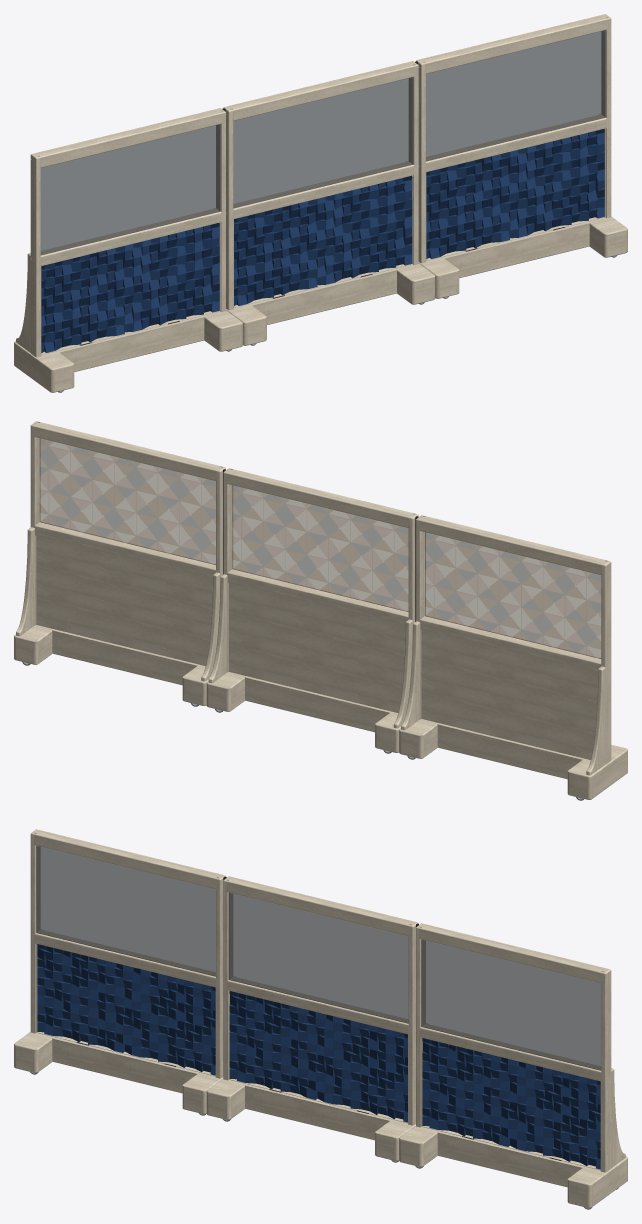
The model's file is v10-linen-marquetry-white-ash-three.glb.
3 views of the same model, one above another, from view 1: azimuth 30°, elevation 25°; view 2: azimuth 150°, elevation 25°; view 3: azimuth 330°, elevation 25° (orthographic).
Parts seen in each view (by area): view 1: Left Wood, Left Linen Marquetry reverse, Linen Marquetry reverse, Right Linen Marquetry reverse, Right Navy Everwood relief, Left Navy Everwood relief, Navy Everwood relief, Right Wood, Wood; view 2: Left Wood, Right Wood, Wood, Left Linen Marquetry print, Right Linen Marquetry print, Linen Marquetry print; view 3: Right Wood, Linen Marquetry reverse, Right Linen Marquetry reverse, Left Linen Marquetry reverse, Left Navy Everwood relief, Right Navy Everwood relief, Navy Everwood relief, Left Wood, Wood.
Part boxes in pixels (left/top/right/bottom): Left Wood: left=14, top=108, right=242, bottom=392; Left Linen Marquetry reverse: left=40, top=124, right=220, bottom=255; Linen Marquetry reverse: left=233, top=77, right=413, bottom=208; Right Linen Marquetry reverse: left=426, top=30, right=605, bottom=161; Right Navy Everwood relief: left=426, top=128, right=604, bottom=258; Left Navy Everwood relief: left=41, top=223, right=219, bottom=352; Navy Everwood relief: left=234, top=175, right=412, bottom=305; Right Wood: left=416, top=14, right=627, bottom=298; Wood: left=223, top=61, right=435, bottom=345; Left Wood: left=399, top=515, right=627, bottom=799; Right Wood: left=14, top=421, right=225, bottom=705; Wood: left=206, top=468, right=418, bottom=752; Left Linen Marquetry print: left=425, top=532, right=601, bottom=658; Right Linen Marquetry print: left=39, top=438, right=215, bottom=564; Linen Marquetry print: left=232, top=485, right=408, bottom=611; Right Wood: left=399, top=923, right=627, bottom=1207; Linen Marquetry reverse: left=228, top=892, right=408, bottom=1023; Right Linen Marquetry reverse: left=421, top=940, right=601, bottom=1070; Left Linen Marquetry reverse: left=36, top=846, right=215, bottom=976; Left Navy Everwood relief: left=37, top=944, right=215, bottom=1075; Right Navy Everwood relief: left=422, top=1038, right=600, bottom=1169; Navy Everwood relief: left=229, top=991, right=407, bottom=1122; Left Wood: left=14, top=829, right=225, bottom=1114; Wood: left=206, top=876, right=418, bottom=1161.
Bounding box in the file's own units: 5.03 × 1.91 × 0.5842.
Materials: 10 (2 with a texture image).
